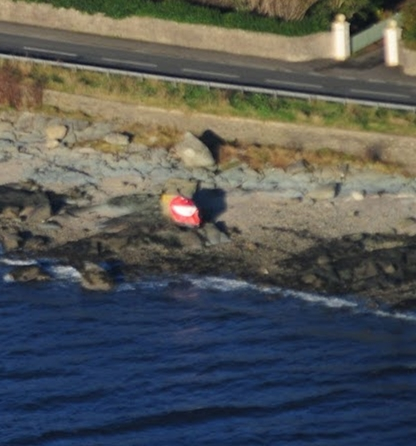white_in_green: (144, 178, 219, 245)
